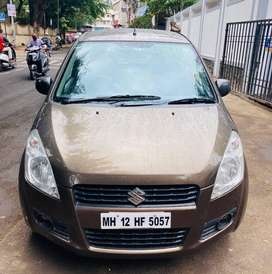MH12HF5057: (100, 212, 171, 228)
